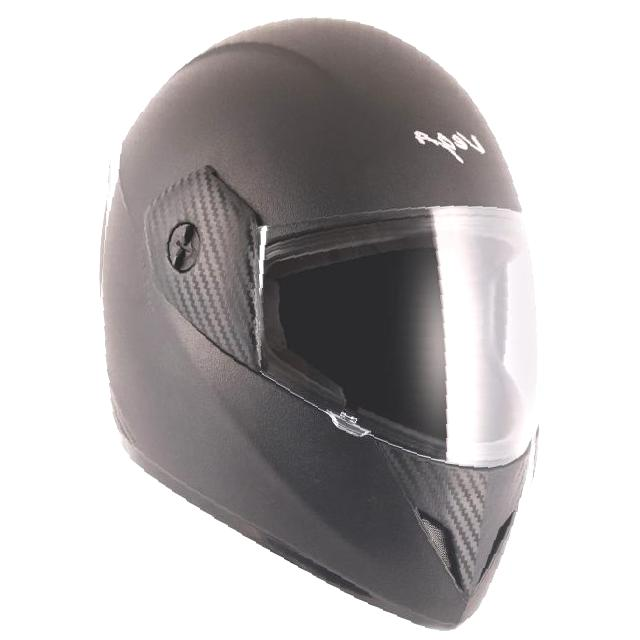helmet: (89, 9, 553, 629)
